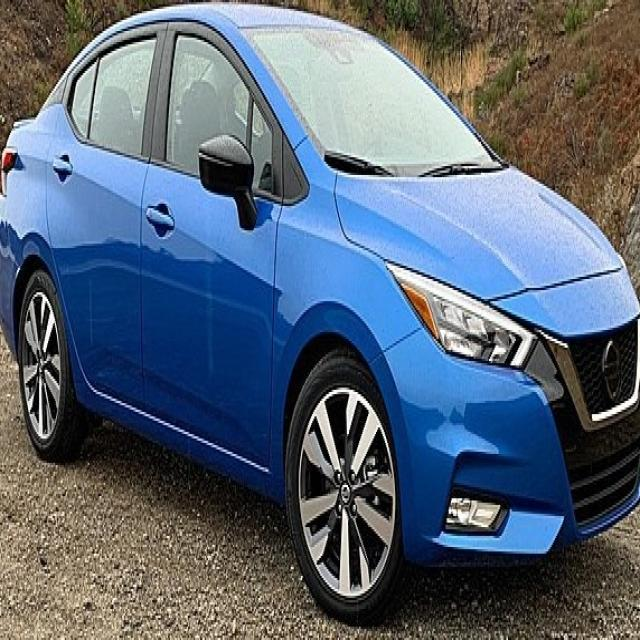blue: (0, 3, 640, 609)
